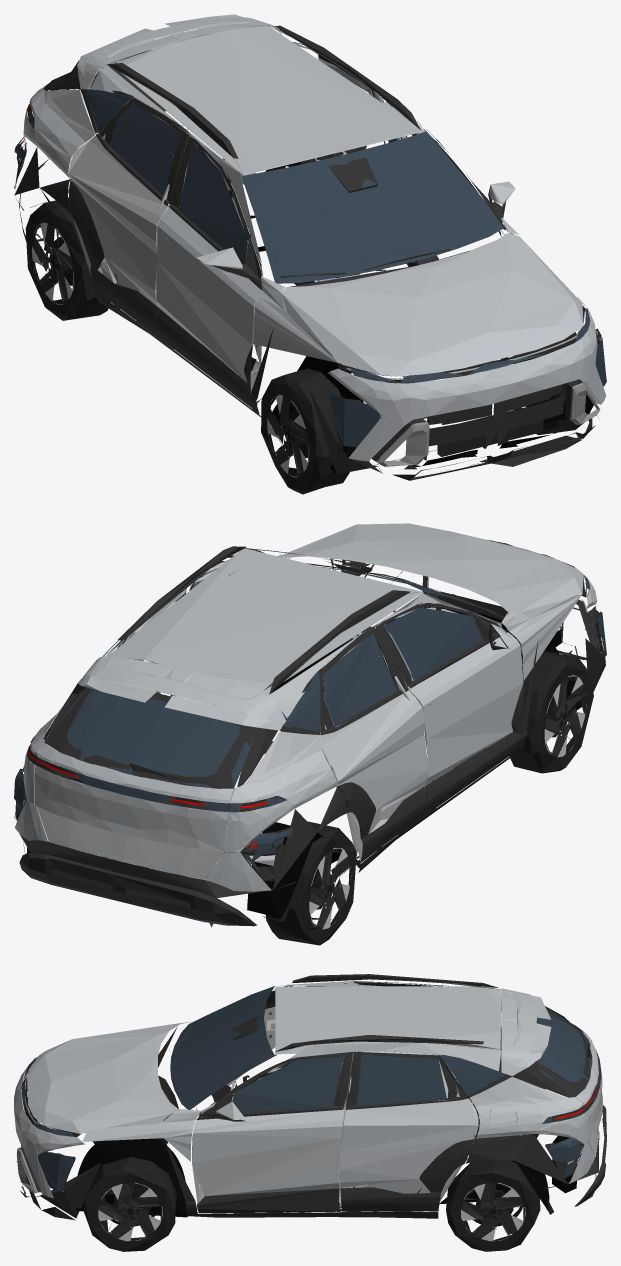
The model's file is hyundo-kono_lod.glb.
3 views of the same model, one above another, from view 1: azimuth 30°, elevation 25°; view 2: azimuth 150°, elevation 25°; view 3: azimuth 270°, elevation 25° (orthographic). The views are drawn at different scales.
Parts seen in each view (by area): view 1: Object037; view 2: Object037; view 3: Object037.
Part boxes in pixels (bbox=[...]): Object037: bbox=[14, 14, 606, 494]; Object037: bbox=[14, 523, 606, 945]; Object037: bbox=[14, 974, 606, 1251].
Bounding box in the file's own units: 2.06 × 1.61 × 4.38.
